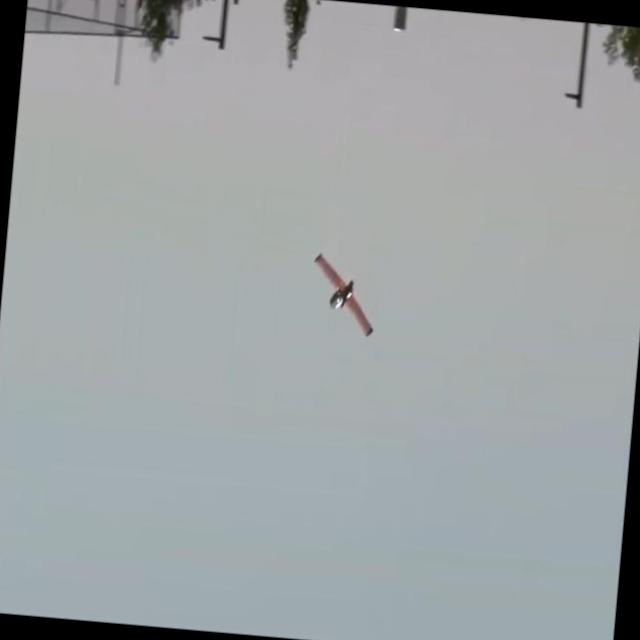UAV: (242, 174, 391, 363)
